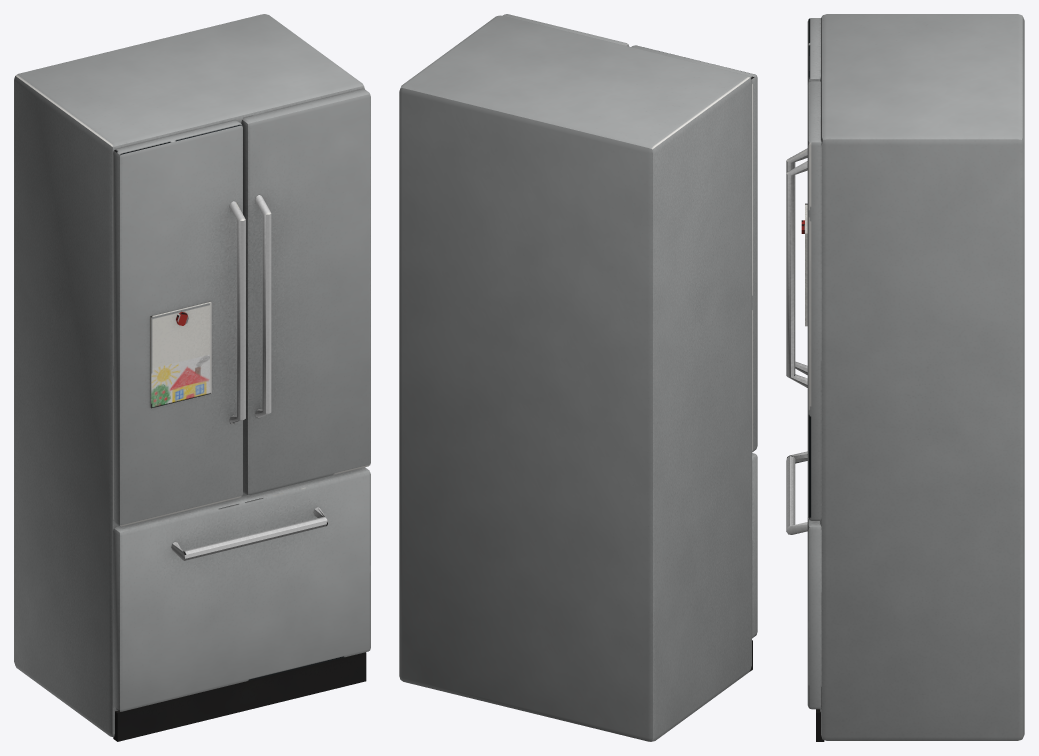
Rendered from H_Fridge.fbx.
3 views of the same model, side by side, from view 1: azimuth 30°, elevation 25°; view 2: azimuth 150°, elevation 25°; view 3: azimuth 270°, elevation 25° (orthographic).
Parts seen in each view (by area): view 1: H_Fridge; view 2: H_Fridge; view 3: H_Fridge.
Boxes of the visible parts, x1,y1,x2,y2 form: H_Fridge: [14, 14, 370, 741]; H_Fridge: [399, 14, 757, 741]; H_Fridge: [786, 14, 1024, 741].
Size of the model in its own units: 360 by 800 by 285.
Materials: 1 (1 with a texture image).
